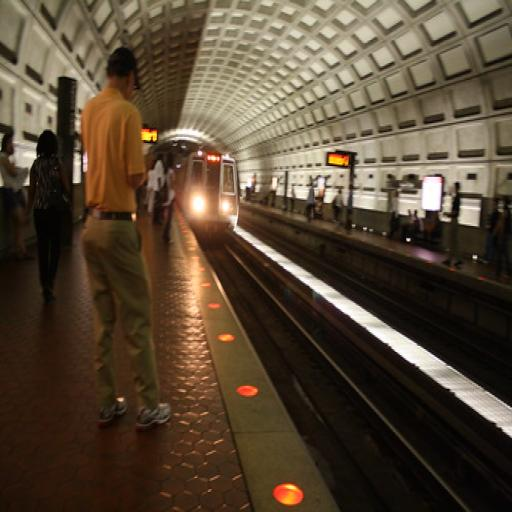platform_edge: (178, 244, 356, 512)
